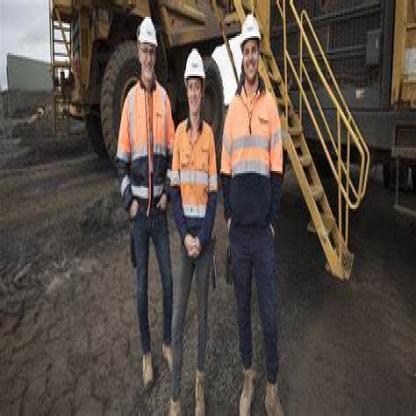person: (226, 6, 289, 414), (113, 4, 172, 393), (170, 26, 218, 404)
